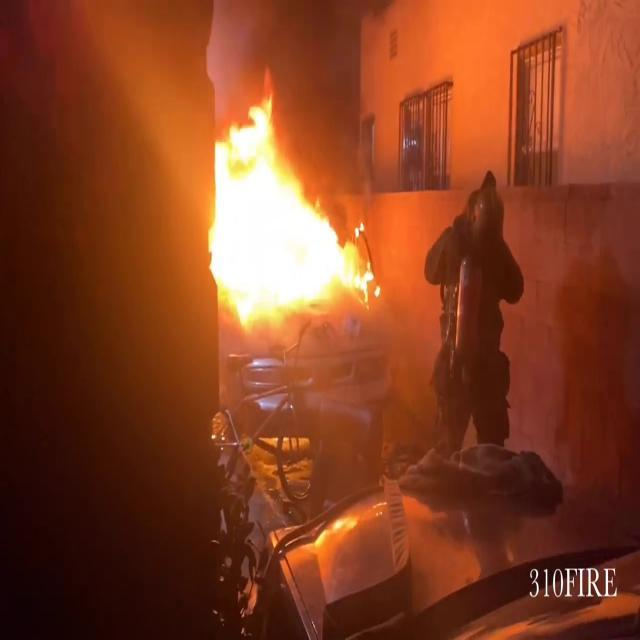Fire: (198, 92, 380, 324)
